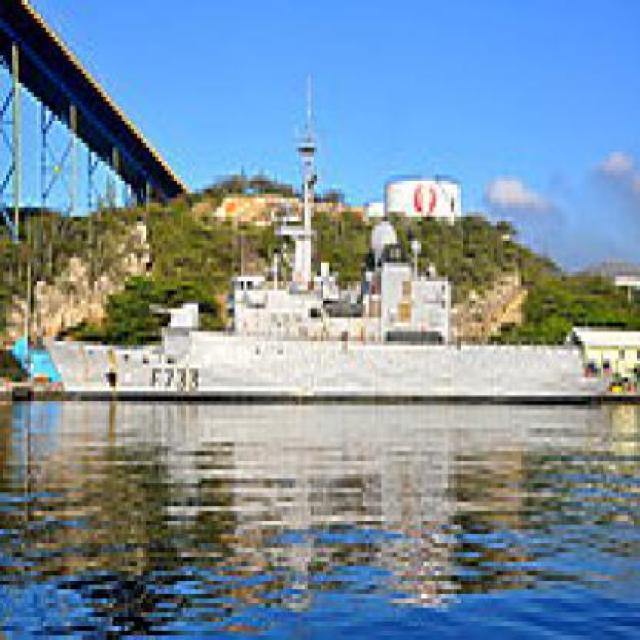warship2: (37, 143, 611, 411)
